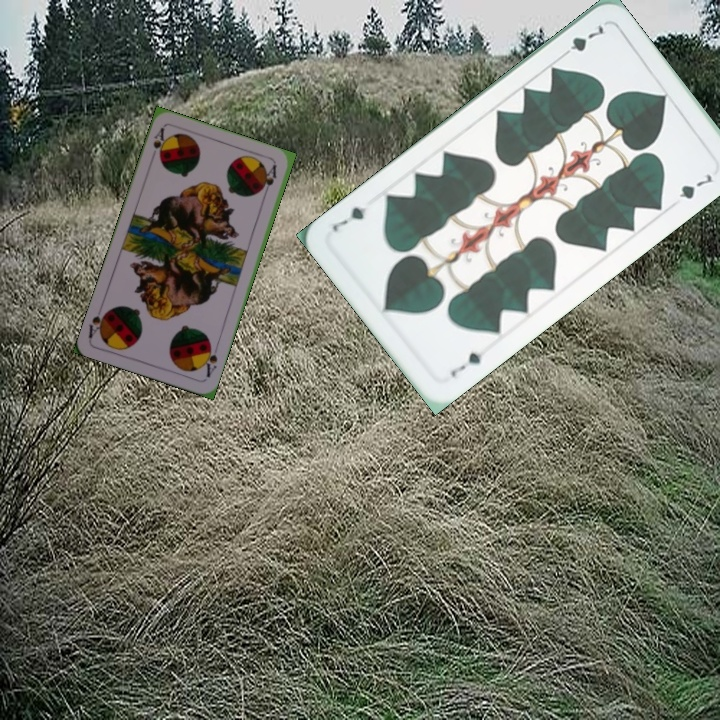G7: (556, 20, 609, 61), (446, 348, 485, 381)
SA: (147, 123, 169, 163), (199, 339, 220, 380)
